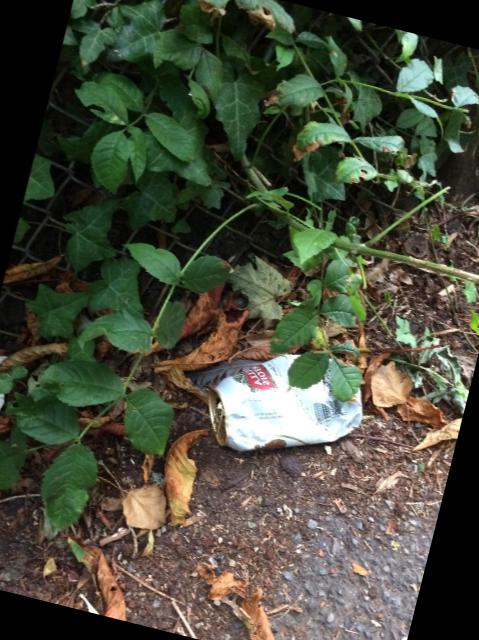metal: (209, 354, 361, 451)
